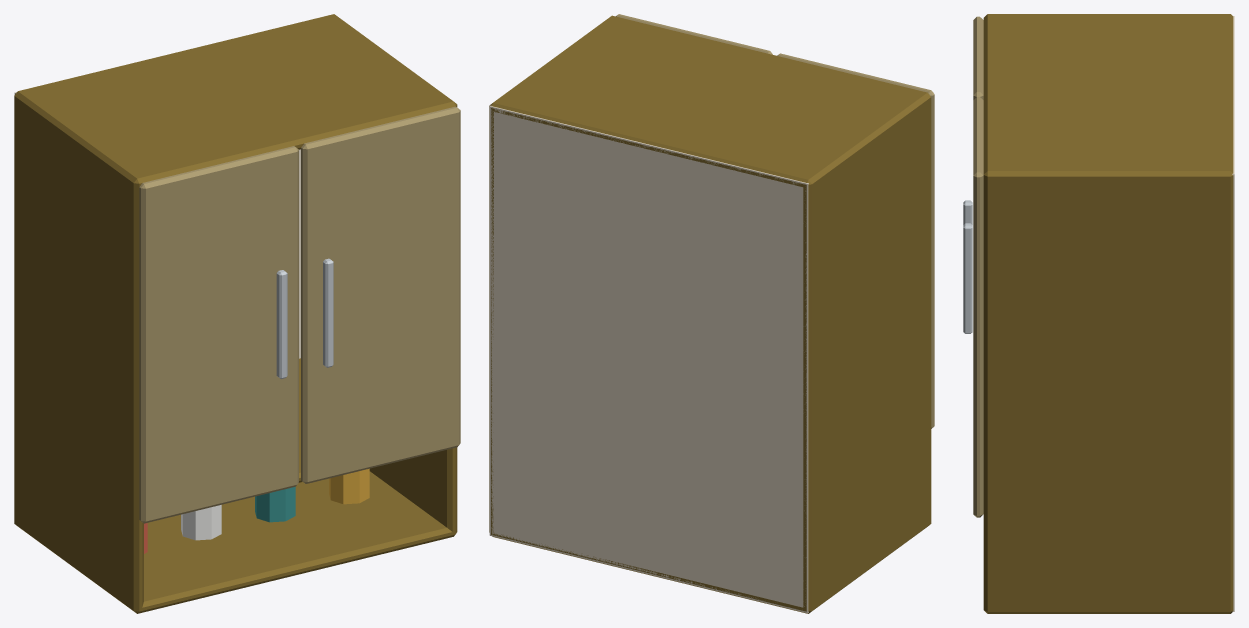
The model's file is wall_cabinet.glb.
3 views of the same model, side by side, from view 1: azimuth 30°, elevation 25°; view 2: azimuth 150°, elevation 25°; view 3: azimuth 270°, elevation 25° (orthographic). The views are drawn at different scales.
Parts seen in each view (by area): view 1: wall_cabinet_Body; view 2: wall_cabinet_Body; view 3: wall_cabinet_Body.
Part boxes in pixels (box(x1,y1,x2,y2)): wall_cabinet_Body: box(14, 14, 460, 613); wall_cabinet_Body: box(489, 14, 934, 613); wall_cabinet_Body: box(963, 14, 1234, 613).
Bounding box in the file's own units: 0.7 × 0.9 × 0.5.
